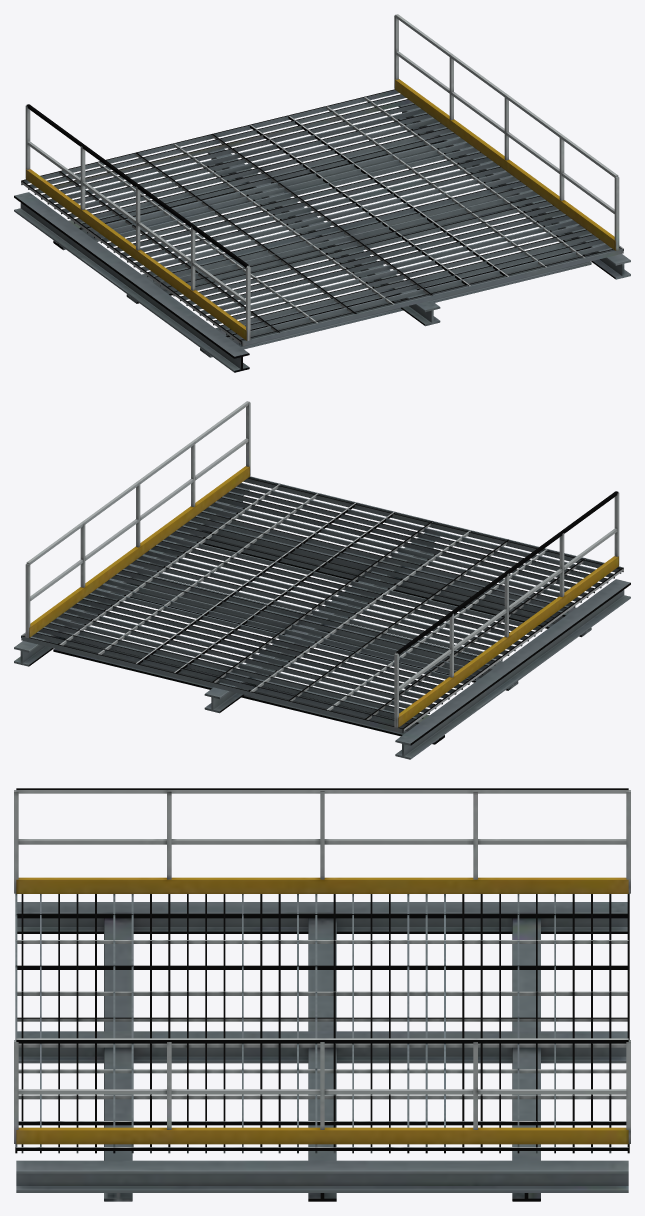
Rendered from catwalk.glb.
3 renders of one model, top to bottom at view 1: azimuth 30°, elevation 25°; view 2: azimuth 150°, elevation 25°; view 3: azimuth 270°, elevation 25°, orthographic. The views are drawn at different scales.
Visible parts, largest first — view 1: body; view 2: body; view 3: body.
Part boxes in pixels (left/top/right/bottom): body: left=14, top=14, right=630, bottom=372; body: left=14, top=401, right=630, bottom=759; body: left=14, top=788, right=630, bottom=1201.
Size of the model in its own units: 6.24 by 1.71 by 6.04.
1 material, 1 textured.
